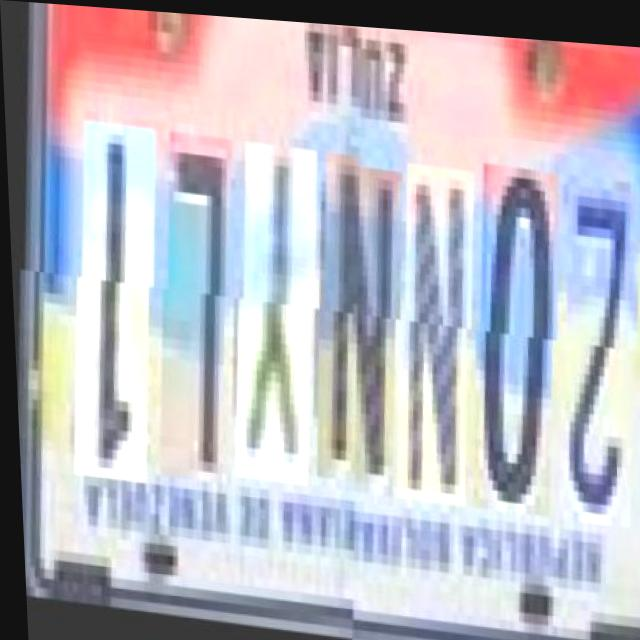1: (57, 125, 157, 490)
2: (541, 166, 639, 510)
l: (143, 134, 232, 488)
n: (299, 150, 401, 485), (380, 149, 473, 493)
o: (455, 148, 559, 502)
y: (218, 142, 317, 486)
